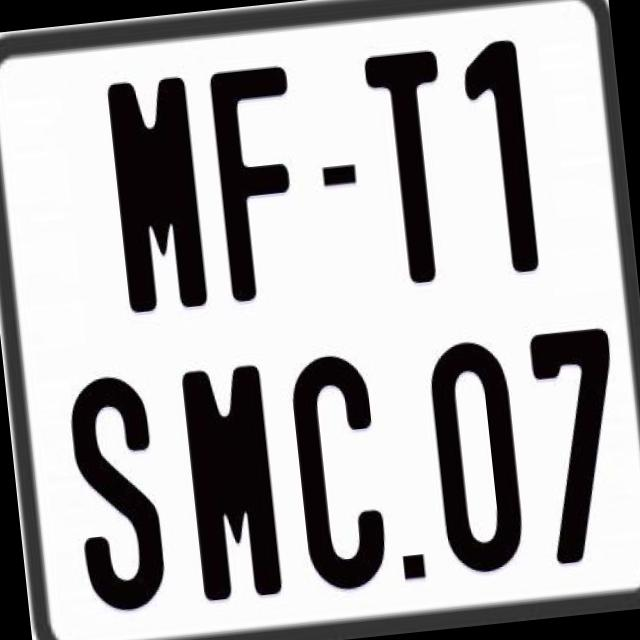0: (424, 332, 534, 575)
1: (456, 37, 541, 284)
7: (528, 325, 634, 564)
C: (284, 348, 392, 592)
F: (205, 64, 312, 304)
M: (105, 75, 212, 319), (178, 364, 280, 611)
S: (63, 367, 174, 615)
T: (362, 48, 462, 286)
